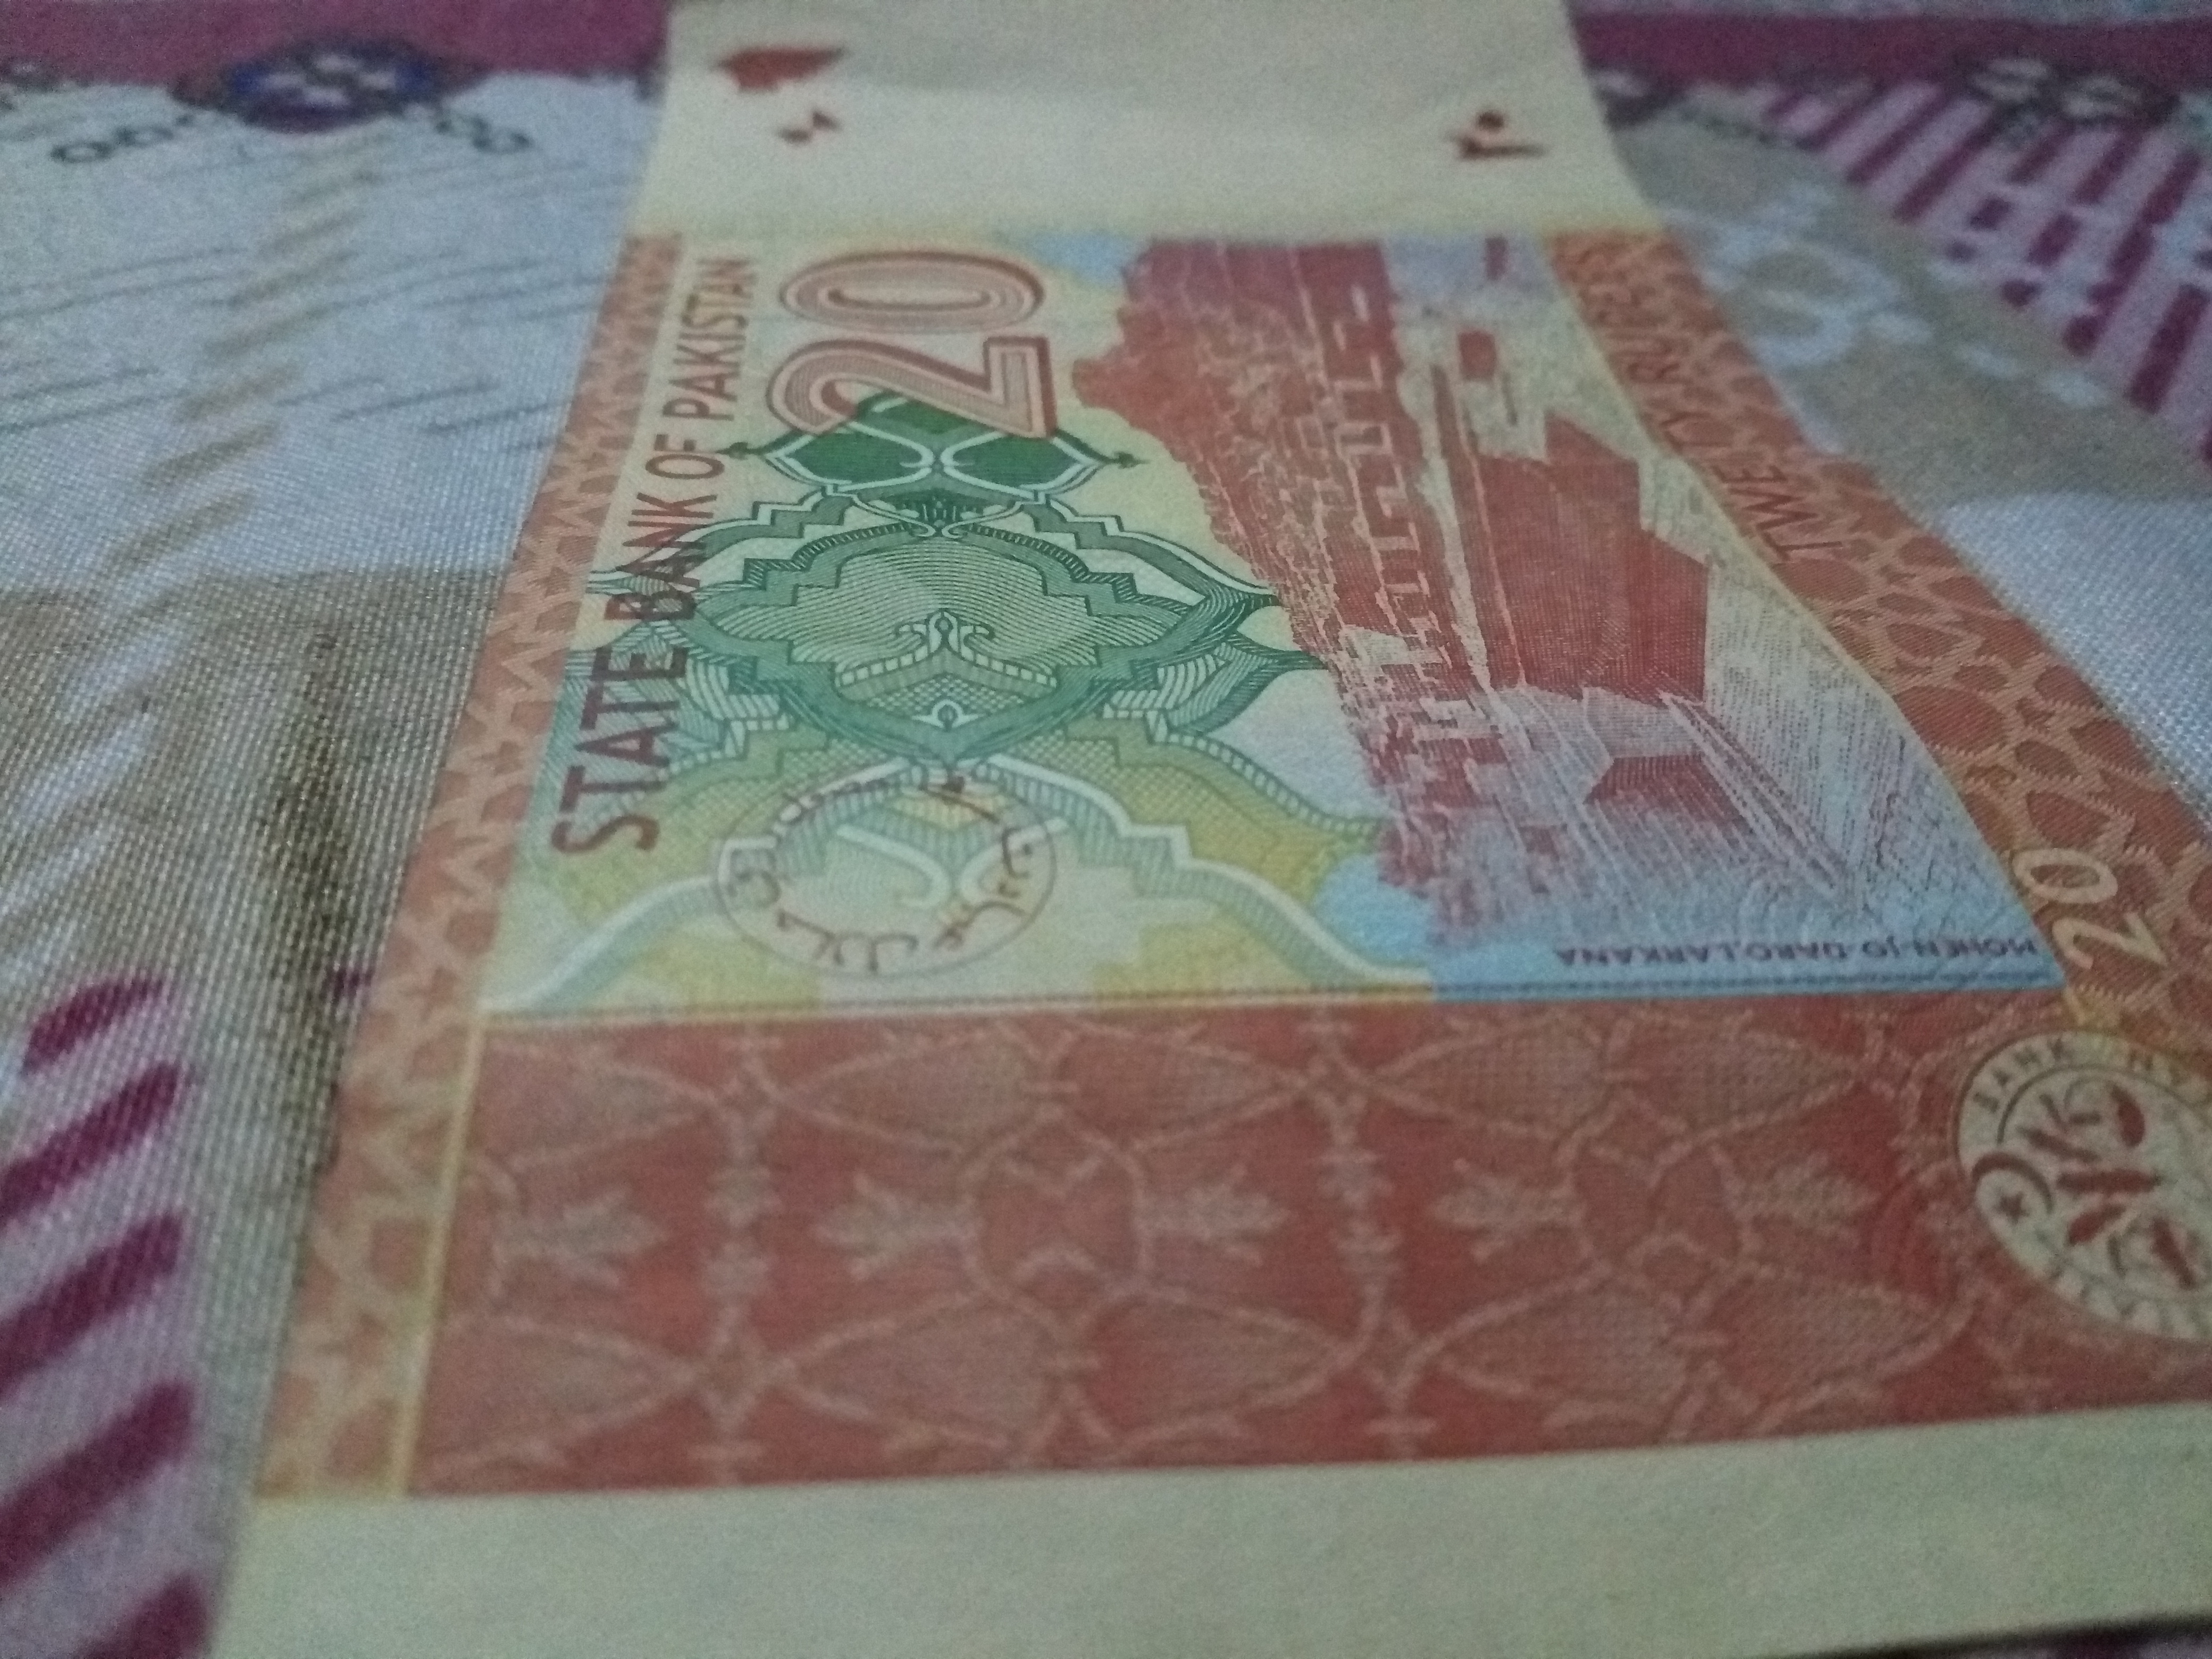20 rupee: (209, 42, 2203, 1621)
